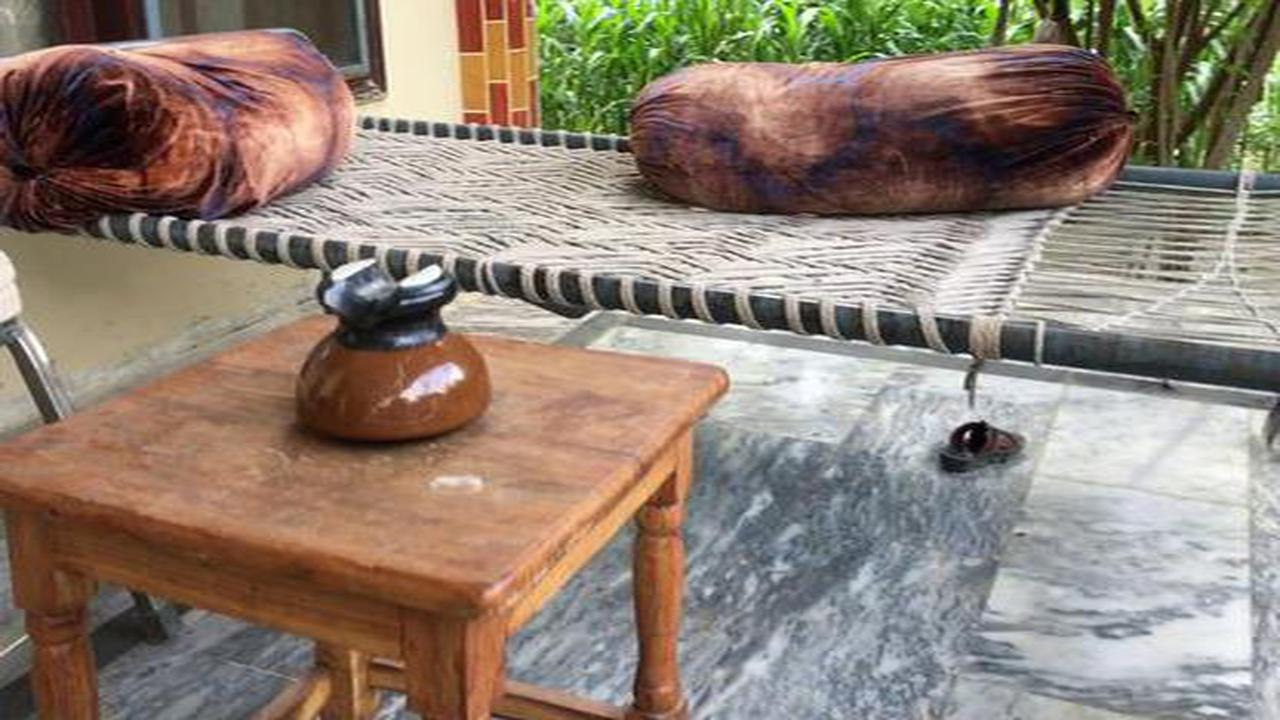insulator_pin: (271, 244, 514, 454)
